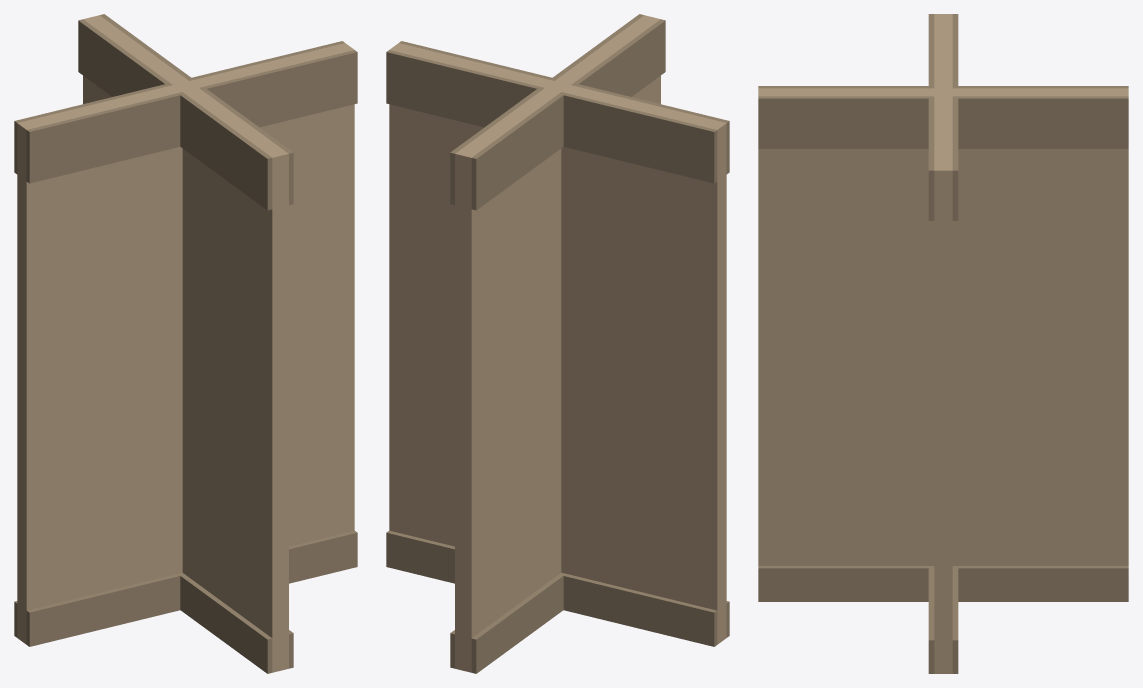
File: Parede_D.fbx
3 renders of one model, left to right at view 1: azimuth 30°, elevation 25°; view 2: azimuth 150°, elevation 25°; view 3: azimuth 270°, elevation 25°, orthographic. The views are drawn at different scales.
Visible parts, largest first — view 1: Parede_D; view 2: Parede_D; view 3: Parede_D.
Boxes of the visible parts, box(x1,y1,x2,y2) form: Parede_D: box(14, 14, 357, 673); Parede_D: box(386, 14, 729, 673); Parede_D: box(758, 14, 1128, 673).
Size of the model in its own units: 200 by 300 by 200.
